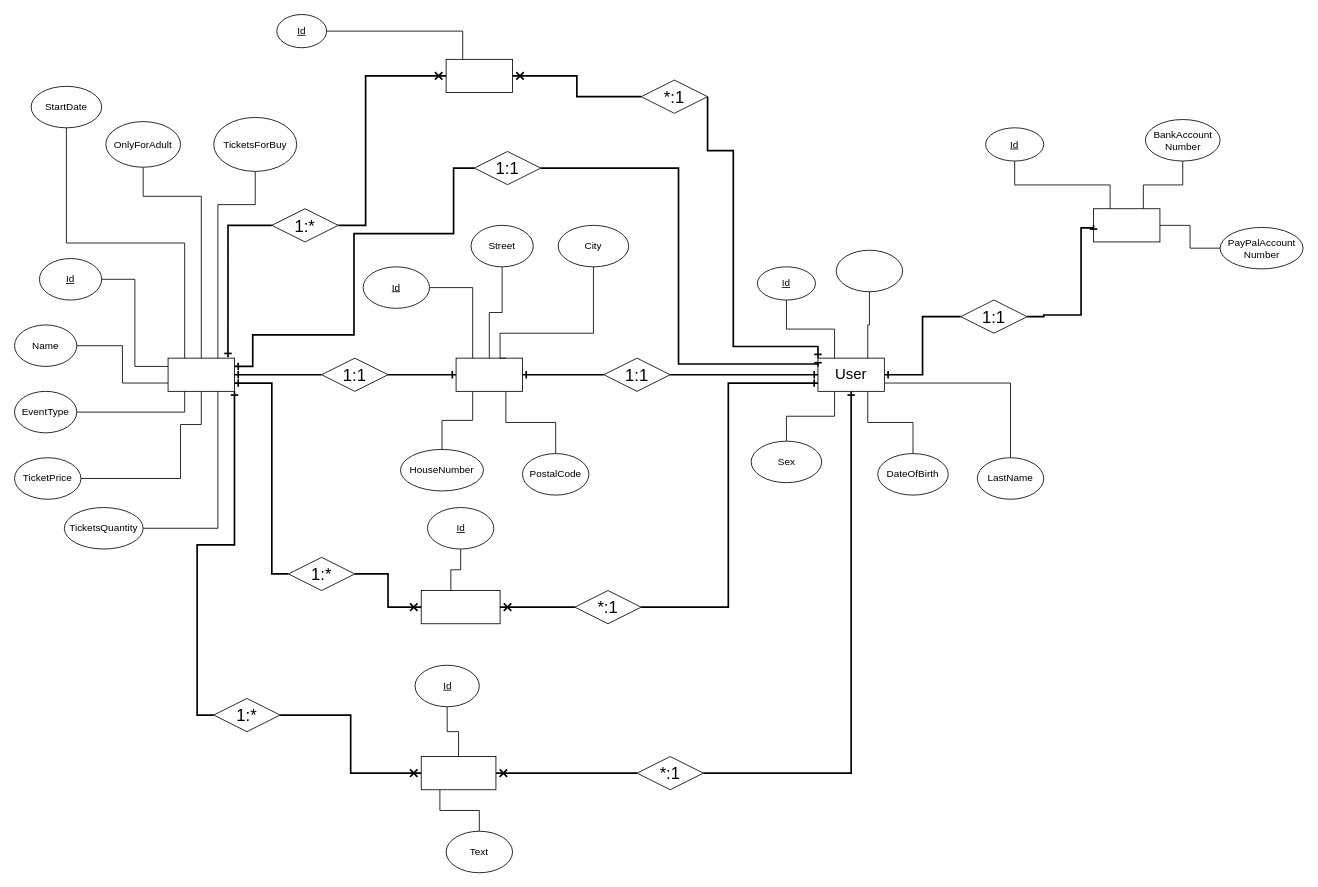
The diagram is 1318 pixels wide and 887 high, and some of its shapes have lost their labels. The shapes that lost their labels are listed below. From the top down, each one's centre as x and y in pixels, then its label:
At [479,76]: "Ticket".
At [1126,225]: "Account".
At [869,270]: "FirstName".
At [200,374]: "Event".
At [488,374]: "Adress".
At [460,607]: "Participant".
At [458,773]: "Comment".
